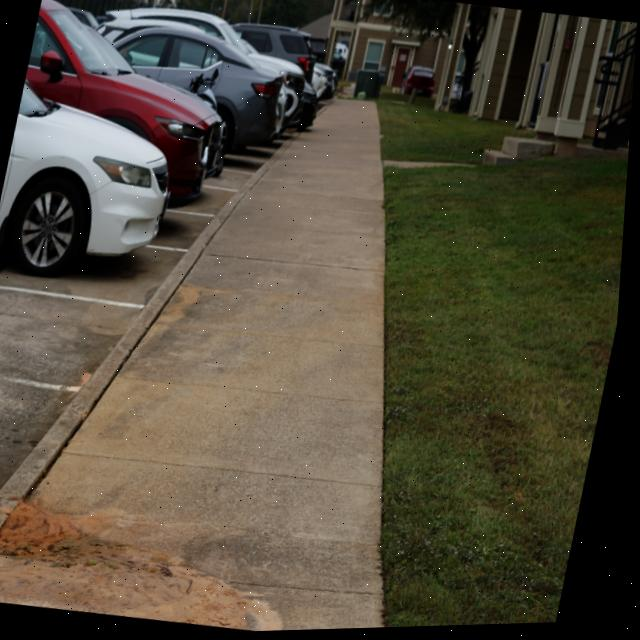Automobile: (403, 69, 436, 99)
Road: (0, 149, 275, 498)
Sidewalk: (0, 103, 393, 633)
